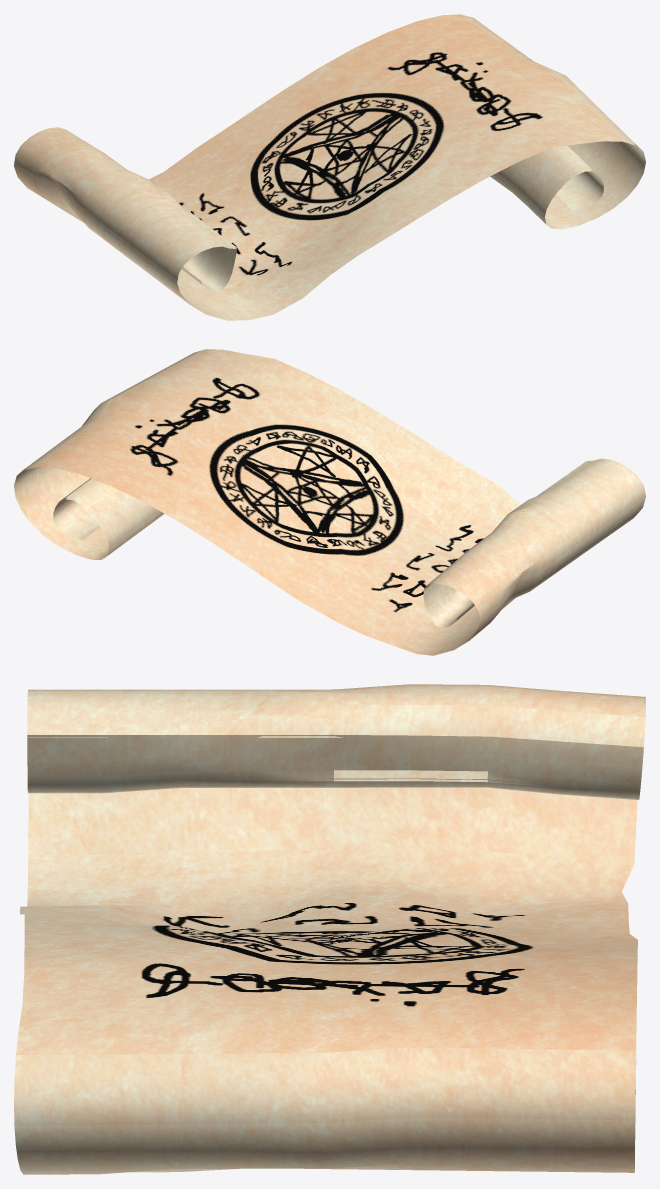
The model's file is fallenpage.fbx.
3 views of the same model, one above another, from view 1: azimuth 30°, elevation 25°; view 2: azimuth 150°, elevation 25°; view 3: azimuth 270°, elevation 25° (orthographic). The views are drawn at different scales.
Visible parts, largest first — view 1: BezierCurve, BezierCurve.001; view 2: BezierCurve, BezierCurve.001; view 3: BezierCurve, BezierCurve.001.
Part boxes in pixels (bbox=[...]): BezierCurve: bbox=[14, 14, 645, 318]; BezierCurve.001: bbox=[14, 140, 645, 320]; BezierCurve: bbox=[14, 349, 645, 654]; BezierCurve.001: bbox=[14, 466, 645, 655]; BezierCurve: bbox=[14, 684, 645, 1145]; BezierCurve.001: bbox=[14, 710, 645, 1174].
Size of the model in its own units: 342 by 72.57 by 210.
Materials: 2 (2 with a texture image).
